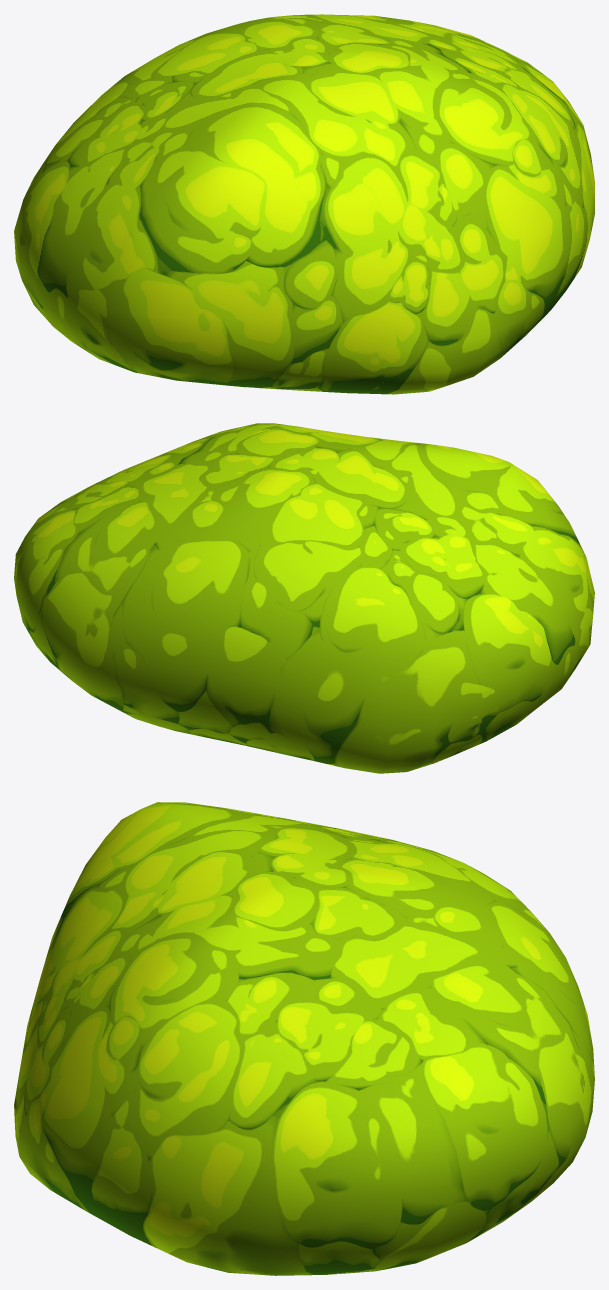
File: leaves5.glb
3 views of the same model, one above another, from view 1: azimuth 30°, elevation 25°; view 2: azimuth 150°, elevation 25°; view 3: azimuth 270°, elevation 25° (orthographic). The views are drawn at different scales.
Visible parts, largest first — view 1: LP; view 2: LP; view 3: LP.
Part boxes in pixels (x1,y1,x2,y2): LP: (14,14,594,394); LP: (14,423,594,773); LP: (14,802,594,1275).
Bounding box in the file's own units: 1.55 × 0.722 × 1.24.
Materials: 1 (1 with a texture image).
